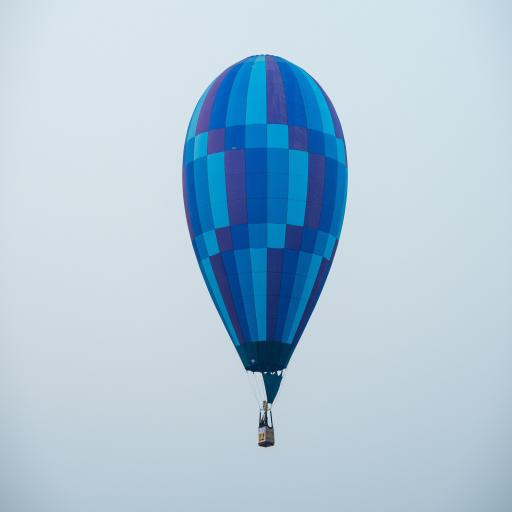hot air ballon: (183, 53, 349, 450)
